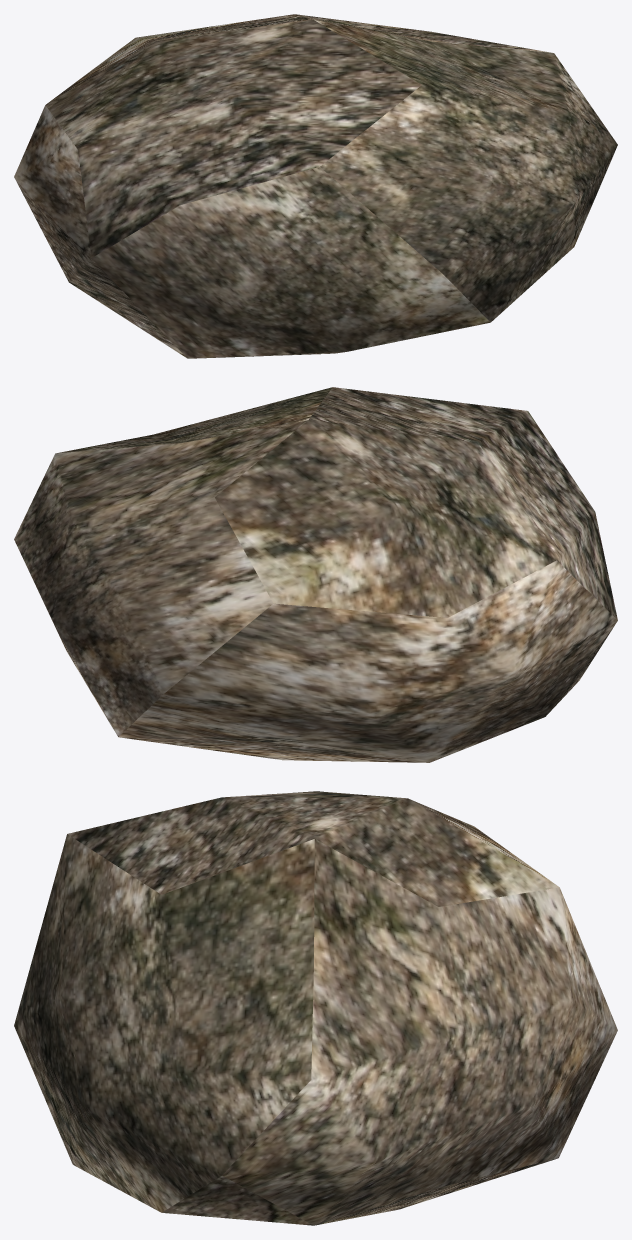
File: RockSet.dae
The picture shows the model from 3 angles, top to bottom: view 1: azimuth 30°, elevation 25°; view 2: azimuth 150°, elevation 25°; view 3: azimuth 270°, elevation 25°; orthographic projection. The views are drawn at different scales.
Parts seen in each view (by area): view 1: Icosphere_002; view 2: Icosphere_002; view 3: Icosphere_002.
Boxes of the visible parts, box(x1,y1,x2,y2) form: Icosphere_002: box(14, 14, 617, 358); Icosphere_002: box(14, 387, 617, 762); Icosphere_002: box(14, 791, 617, 1225).
Size of the model in its own units: 0.989 by 0.8538 by 0.5207.
